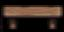Obstacle: (2, 5, 62, 30)
